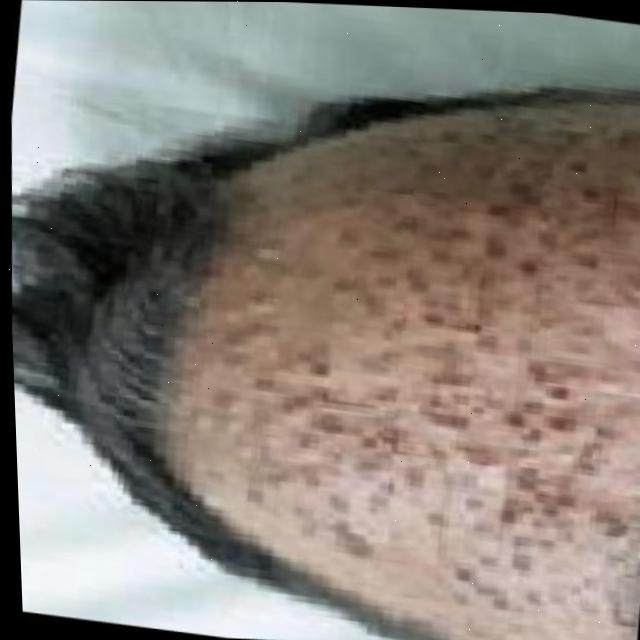Eczema: (171, 81, 640, 573)
